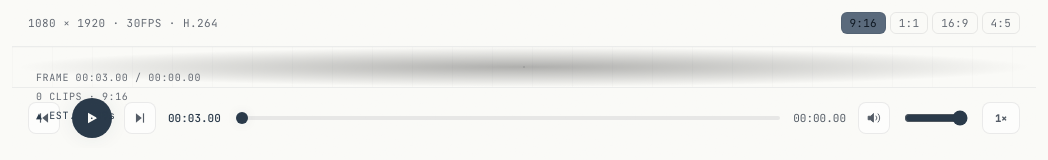
Test case: PreviewPanel › transport volume + speed (#74) › the speed button cycles 1× → 1.5× and feeds the Player playbackRate prop
Click the button named "speed" at (1001, 118), box [982,102,1020,134]
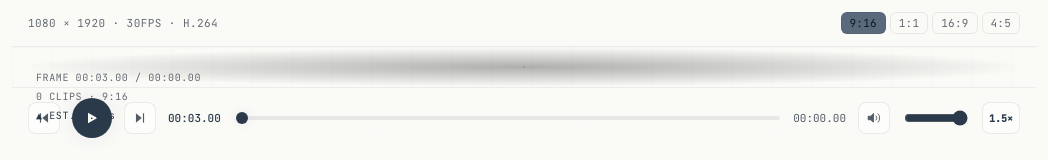
Result: the button named "speed" reads "1.5×" at [982,102,1020,134]
